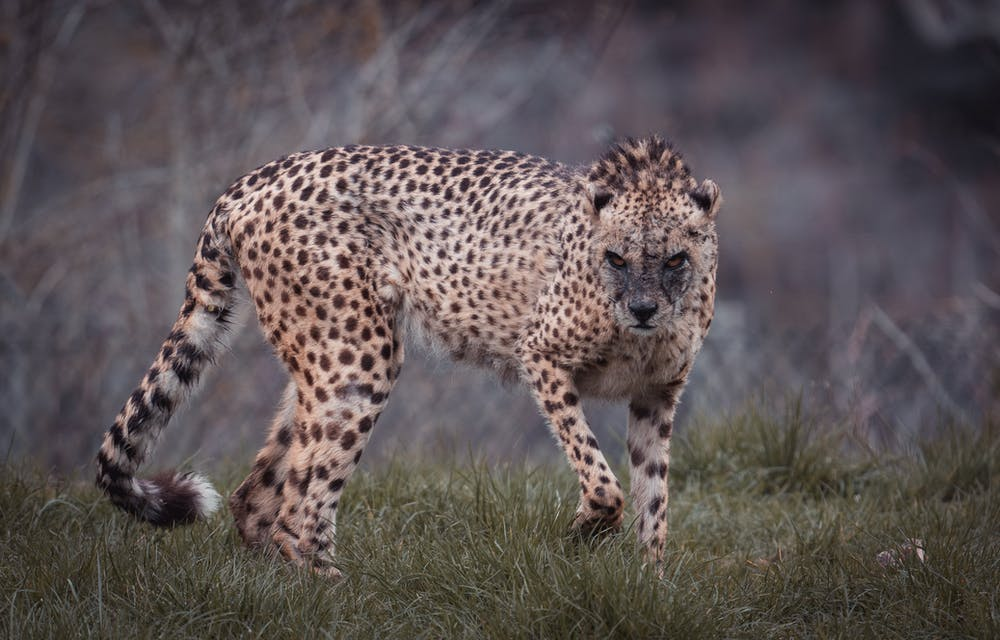cheetah: (574, 171, 737, 362)
